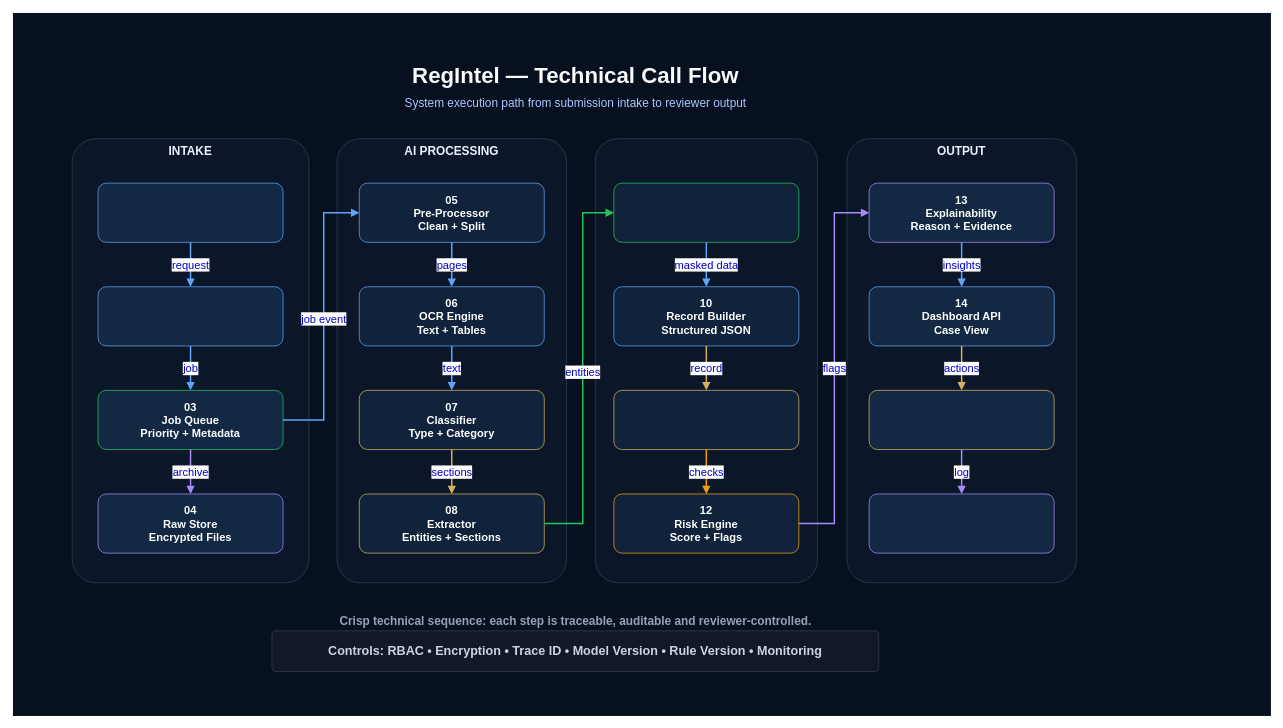
Some shapes in this 1283 by 728 pixel diagram are drawn without their labels. Here are the shapes that lost their labels. From the top down, the box of each, then its label:
(97, 182, 283, 242): 01 Portal Intake SUGAM / MD Online
(613, 182, 799, 242): 09 Privacy Engine PII / PHI Masking
(97, 286, 283, 346): 02 API Gateway Auth + Trace ID
(595, 138, 817, 583): DECISION ENGINE
(613, 390, 799, 450): 11 Rule Engine Checklist Match
(868, 390, 1054, 450): 15 Review Pack Notes + Queries
(868, 493, 1054, 553): 16 Audit Log Version + Action
